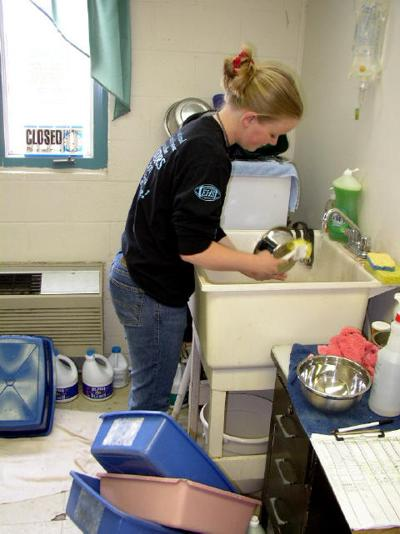person: (110, 42, 315, 410)
